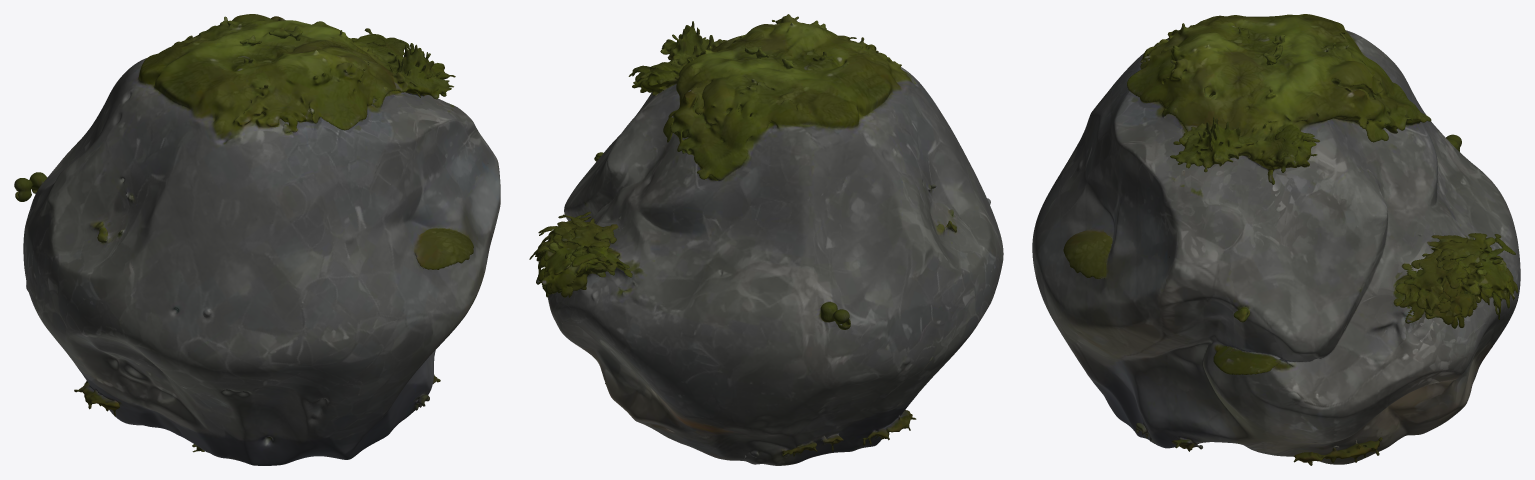
File: forest_rock_large.glb
3 views of the same model, side by side, from view 1: azimuth 30°, elevation 25°; view 2: azimuth 150°, elevation 25°; view 3: azimuth 270°, elevation 25° (orthographic). The views are drawn at different scales.
Parts seen in each view (by area): view 1: tripo_node_cb813de9-ee1e-41f3-b3c0-c82fc57fb031; view 2: tripo_node_cb813de9-ee1e-41f3-b3c0-c82fc57fb031; view 3: tripo_node_cb813de9-ee1e-41f3-b3c0-c82fc57fb031.
Part boxes in pixels (x1,y1,x2,y2): tripo_node_cb813de9-ee1e-41f3-b3c0-c82fc57fb031: [14, 14, 500, 465]; tripo_node_cb813de9-ee1e-41f3-b3c0-c82fc57fb031: [529, 14, 1003, 465]; tripo_node_cb813de9-ee1e-41f3-b3c0-c82fc57fb031: [1032, 14, 1520, 465].
Bounding box in the file's own units: 1 × 0.9073 × 0.9898.
1 material, 1 textured.
